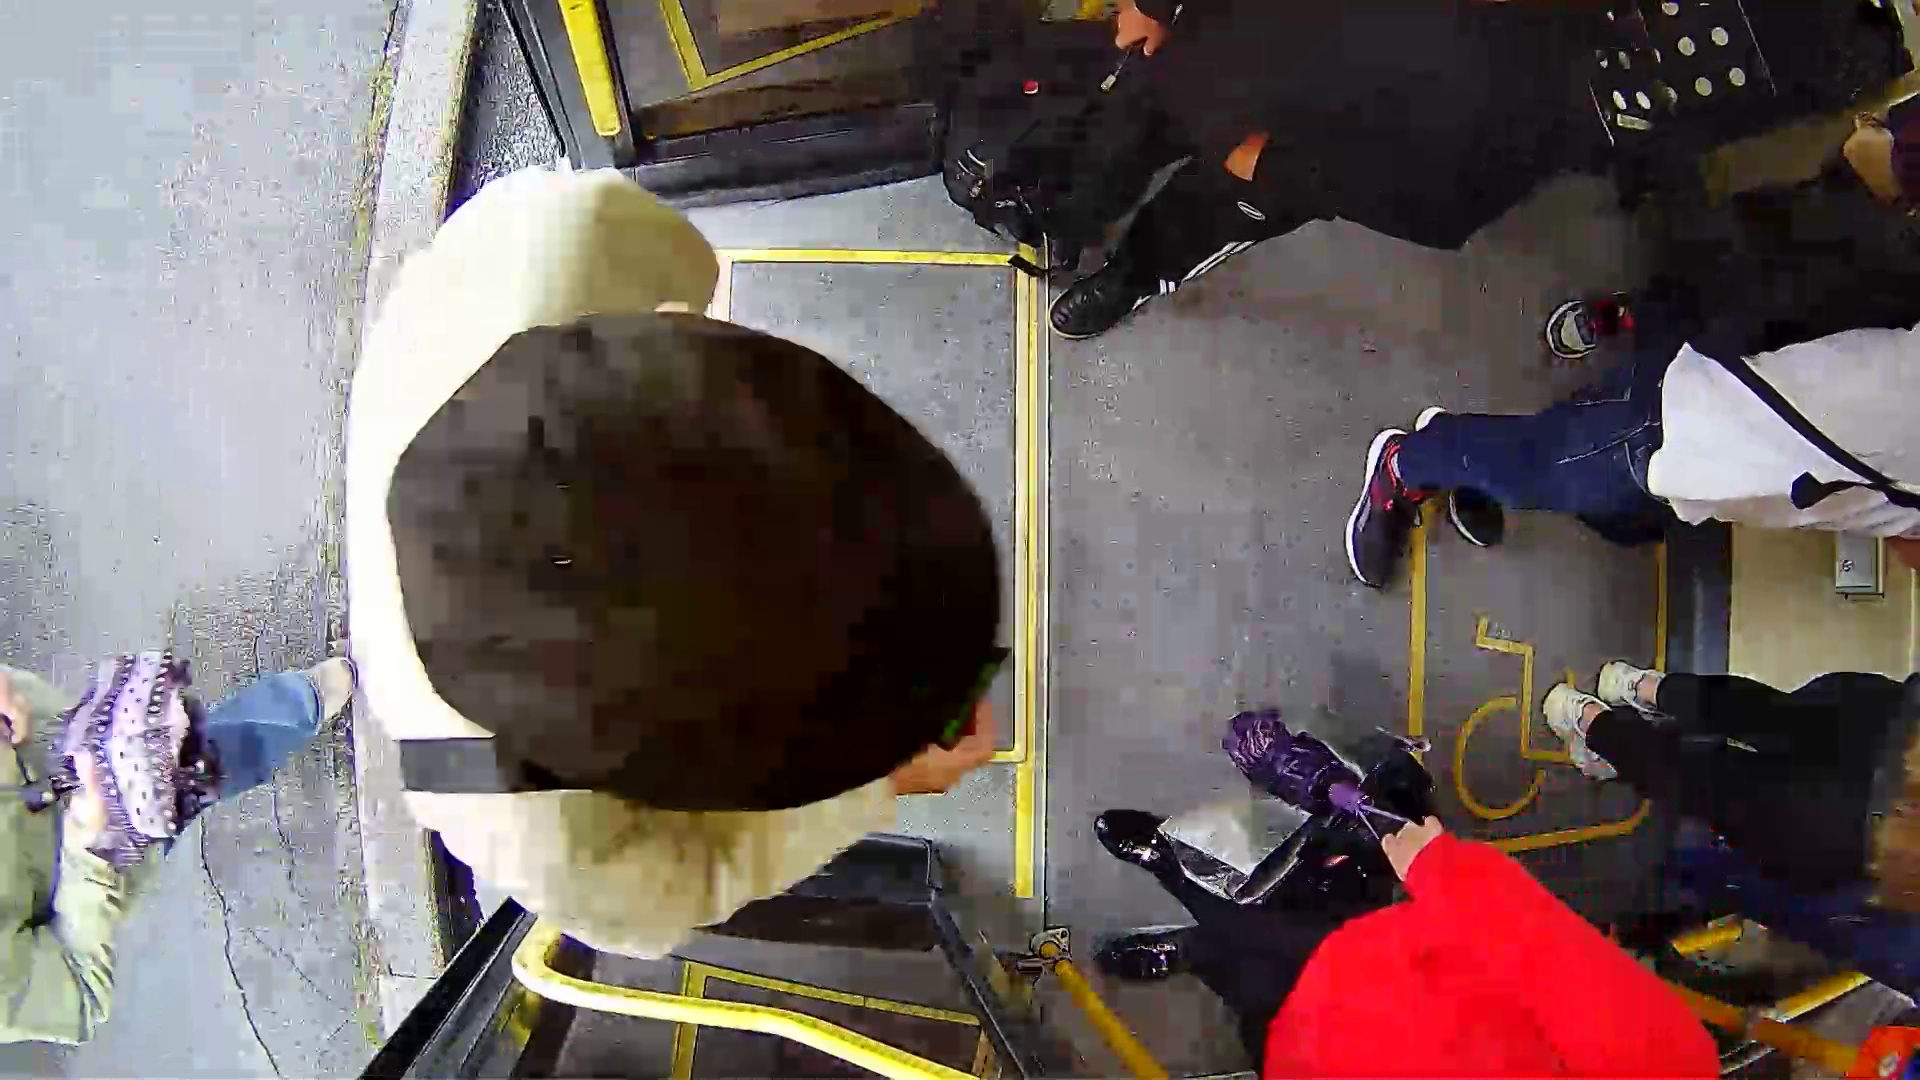person: (314, 160, 1091, 942)
